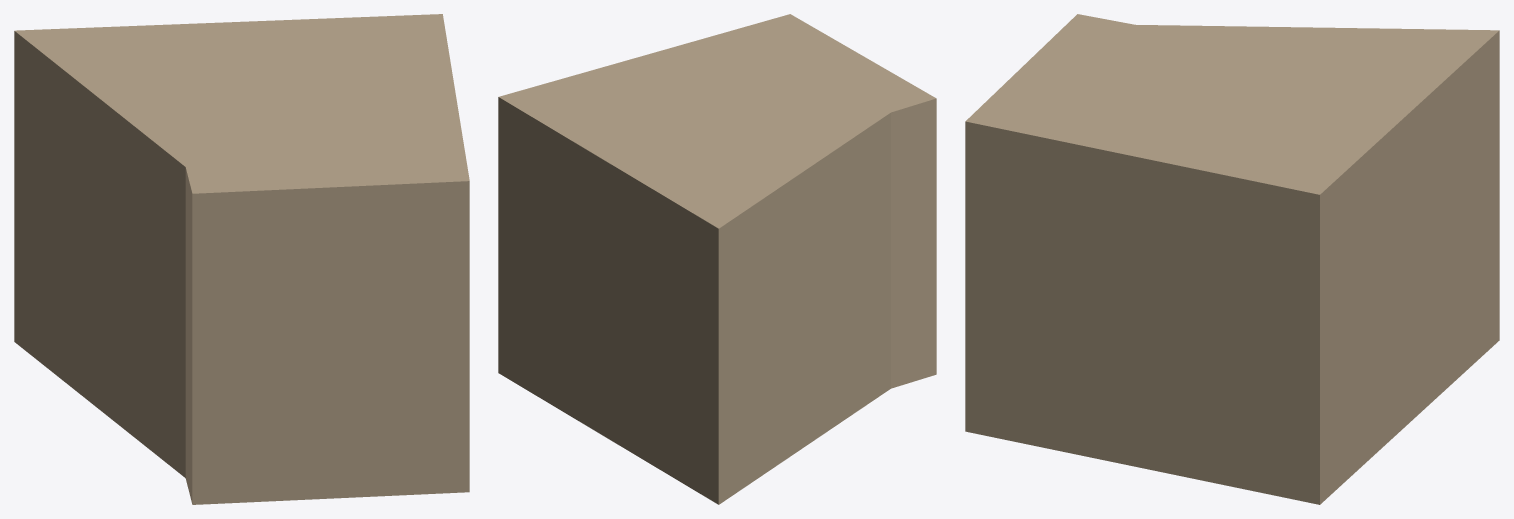
File: bld_107914684.dae
3 renders of one model, left to right at view 1: azimuth 30°, elevation 25°; view 2: azimuth 150°, elevation 25°; view 3: azimuth 270°, elevation 25°, orthographic. The views are drawn at different scales.
Parts seen in each view (by area): view 1: bld_107914684; view 2: bld_107914684; view 3: bld_107914684.
Boxes of the visible parts, bbox=[...] form: bld_107914684: bbox=[14, 14, 469, 504]; bld_107914684: bbox=[498, 14, 936, 504]; bld_107914684: bbox=[965, 14, 1499, 504].
Size of the model in its own units: 10.01 by 12.49 by 8.
